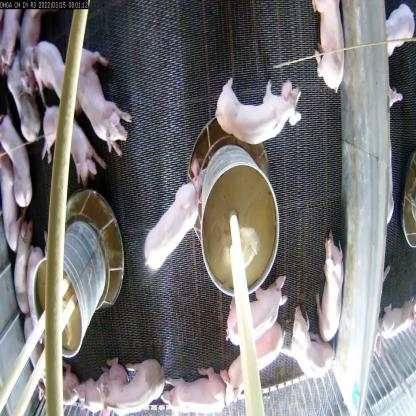Pig: (208, 59, 304, 152), (71, 38, 136, 153), (143, 172, 201, 268), (38, 99, 98, 184), (224, 325, 285, 403), (286, 296, 340, 384), (226, 271, 291, 344), (306, 0, 352, 96), (314, 226, 346, 350), (156, 365, 227, 415), (0, 116, 39, 205), (104, 359, 167, 414), (26, 33, 74, 92), (11, 226, 38, 312)
